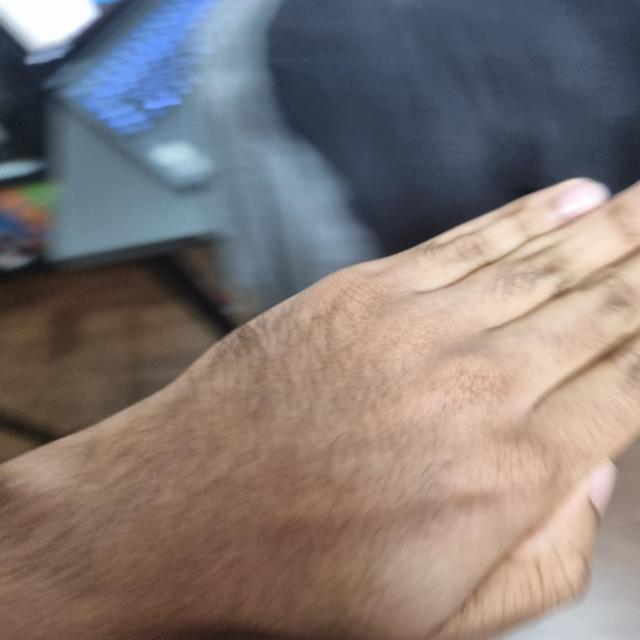Paper: (128, 182, 640, 639)
